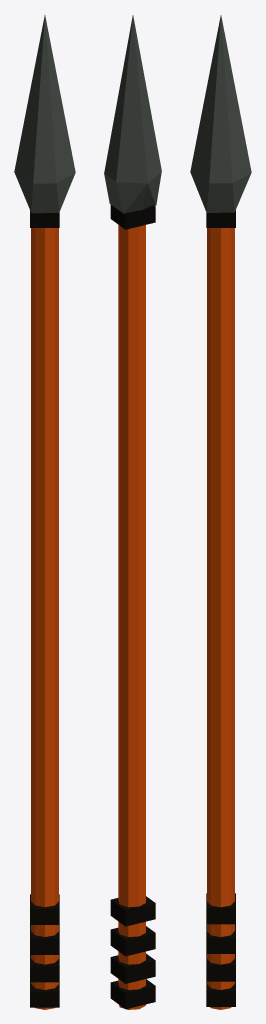
Rendered from spear.fbx.
3 views of the same model, side by side, from view 1: azimuth 90°, elevation 25°; view 2: azimuth 210°, elevation 25°; view 3: azimuth 270°, elevation 25° (orthographic).
Parts seen in each view (by area): view 1: Cylinder, Cone, Cube.002, Cube; view 2: Cylinder, Cone, Cube.002, Cube; view 3: Cylinder, Cone, Cube.002, Cube.
Part boxes in pixels (x1,y1,x2,y2): Cylinder: (31, 228, 58, 1009); Cone: (14, 15, 75, 213); Cube.002: (30, 894, 59, 1007); Cube: (30, 210, 59, 227); Cylinder: (118, 225, 145, 1009); Cone: (104, 15, 161, 213); Cube.002: (110, 896, 155, 1009); Cube: (110, 205, 155, 229); Cylinder: (207, 228, 234, 1009); Cone: (190, 15, 251, 212); Cube.002: (206, 893, 235, 1006); Cube: (206, 210, 235, 227).
Size of the model in its own units: 1.93 by 39.77 by 2.24.
